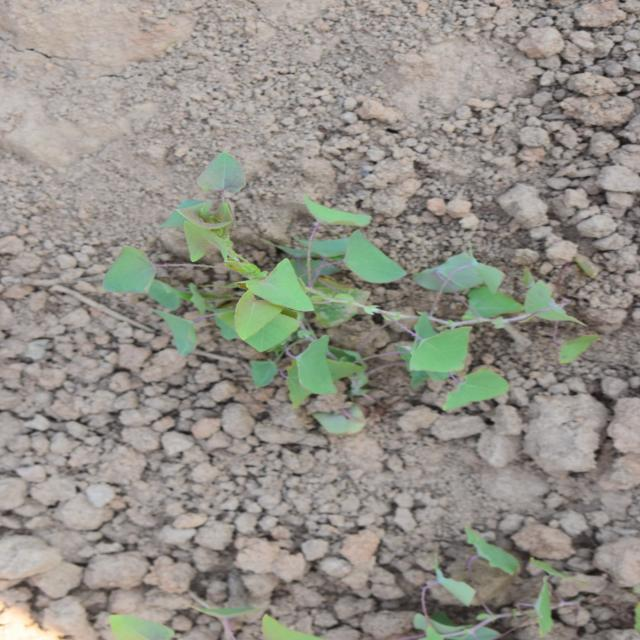Asiatic_Smartweed: (236, 401, 387, 574), (281, 100, 402, 248), (333, 247, 442, 401), (378, 170, 492, 252)
